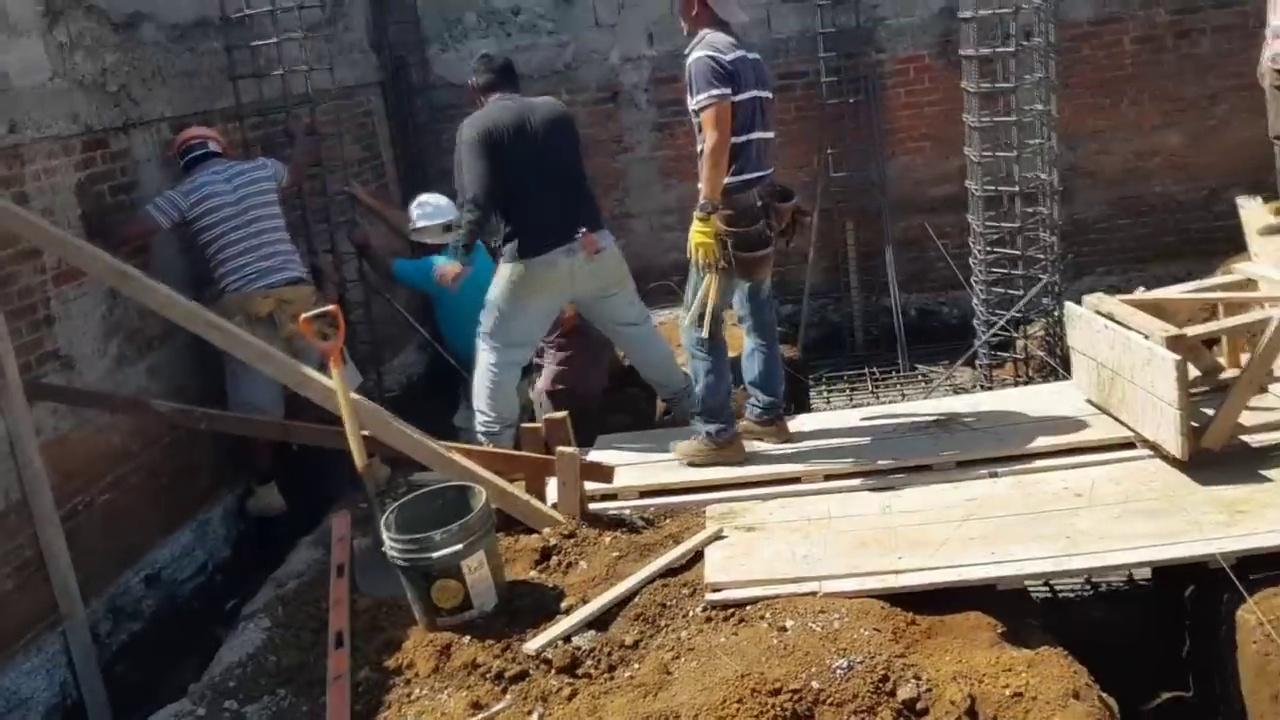helmet: (169, 118, 227, 159), (404, 190, 461, 229)
helmet-off: (469, 51, 515, 102), (679, 0, 722, 39)
helmet-on: (402, 192, 460, 258), (168, 118, 228, 179)
person: (446, 52, 707, 467), (120, 118, 310, 513), (679, 0, 786, 472), (381, 182, 503, 405)
